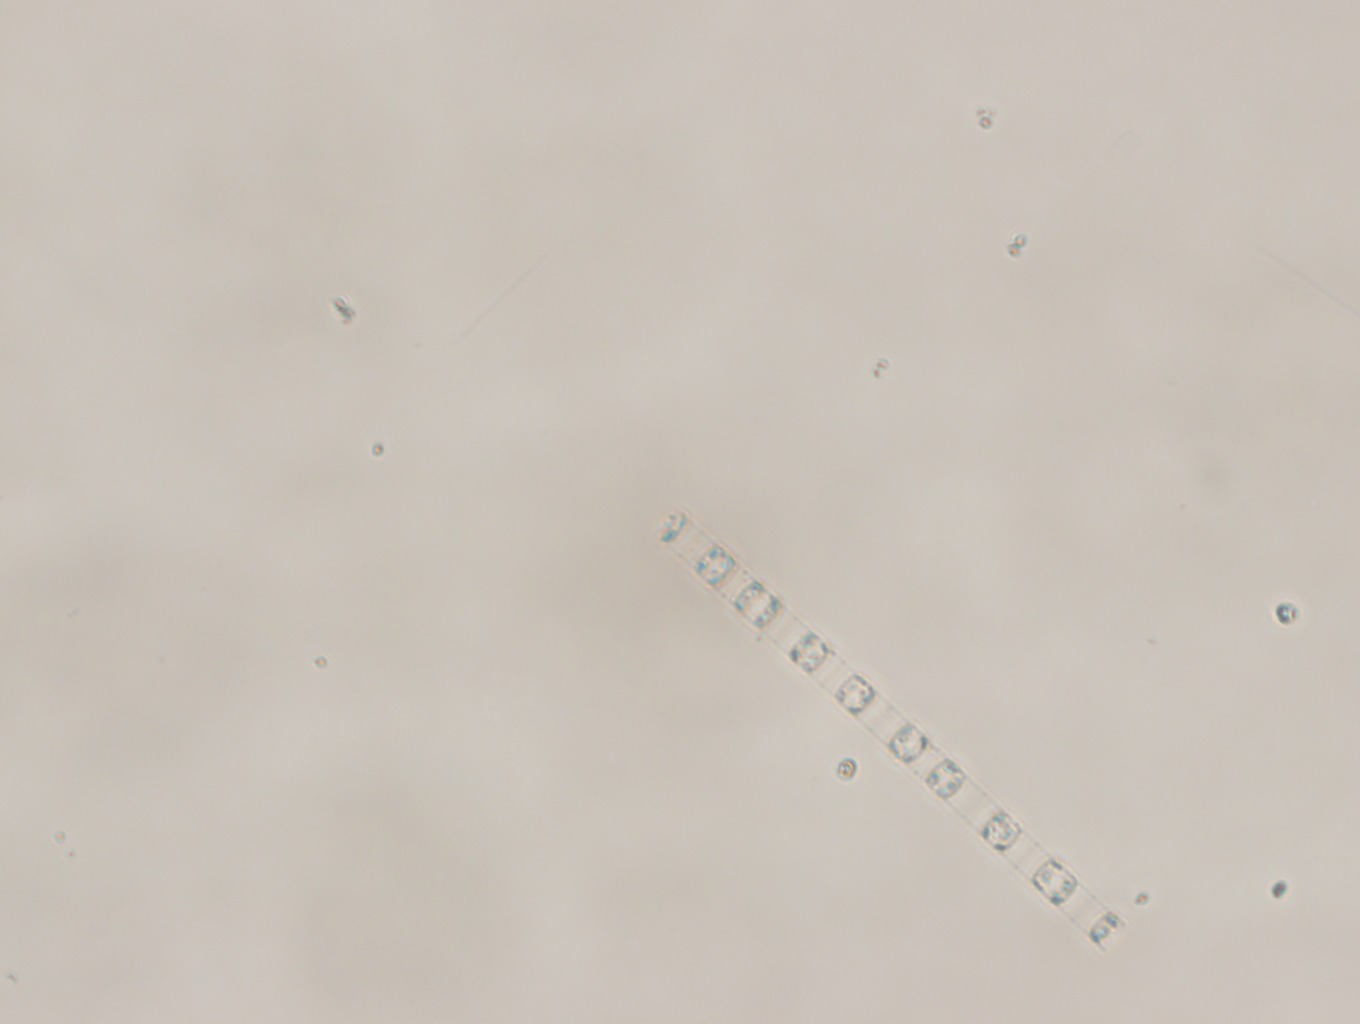skeletonema: (648, 504, 1137, 961)
